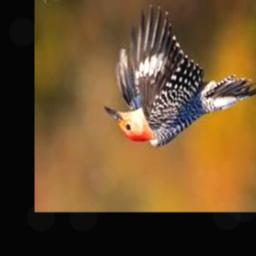Woodpecker: (103, 5, 256, 147)
